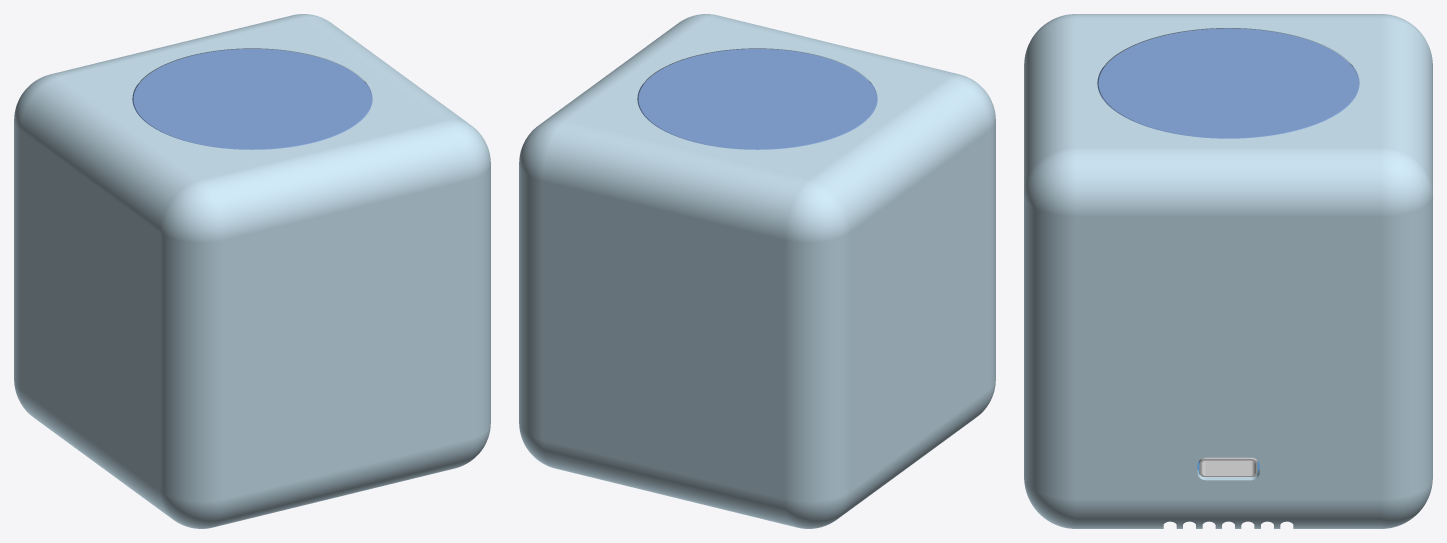
Rendered from Cube-bottom-board.gltf.
The picture shows the model from 3 angles, left to right: view 1: azimuth 30°, elevation 25°; view 2: azimuth 150°, elevation 25°; view 3: azimuth 270°, elevation 25°; orthographic projection. The views are drawn at different scales.
Parts seen in each view (by area): view 1: main case, Case Lid, Button; view 2: main case, Case Lid, Button; view 3: main case, Button, Case Lid, PCB.
Part boxes in pixels (x1,y1,x2,y2): main case: (53, 14, 490, 527); Case Lid: (14, 74, 224, 528); Button: (132, 49, 372, 149); main case: (519, 14, 956, 527); Case Lid: (785, 74, 995, 528); Button: (637, 49, 877, 149); main case: (1024, 19, 1432, 528); Button: (1097, 28, 1359, 138); Case Lid: (1024, 14, 1432, 57); PCB: (1197, 457, 1259, 476).
Bounding box in the file's own units: 0.063 × 0.064 × 0.063.
